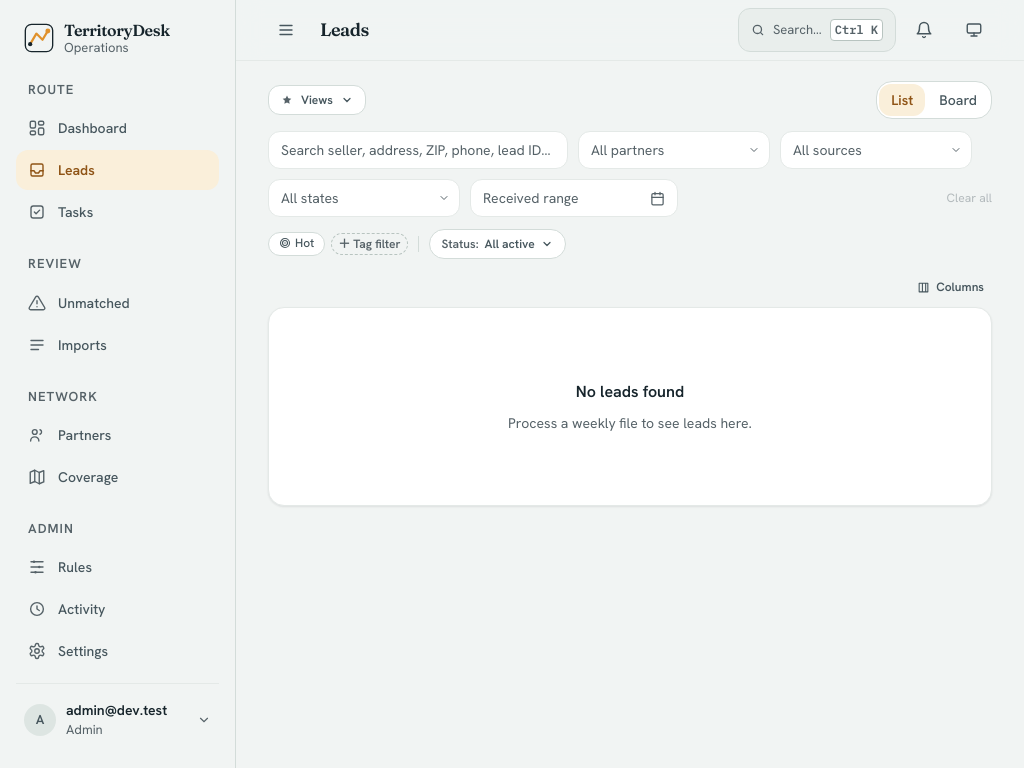
Test case: SV-04: applying a saved view replaces the leads page's filter state › SV-04: every filter in the view reaches the list request — through the filter bar
The width and height of the screenshot is (1024, 768).
Click the button with aria-label "saved views" at (317, 100), box left=268, top=85, right=366, bottom=115
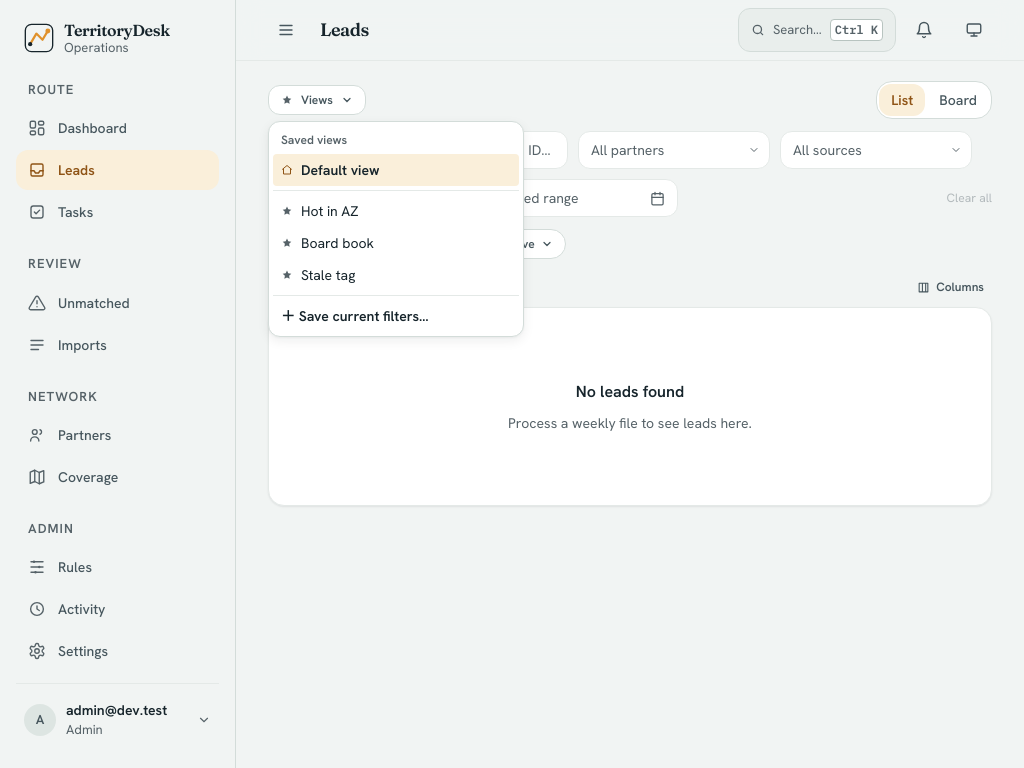
Click the menu item "Hot in AZ" at (320, 211), box left=281, top=202, right=358, bottom=220
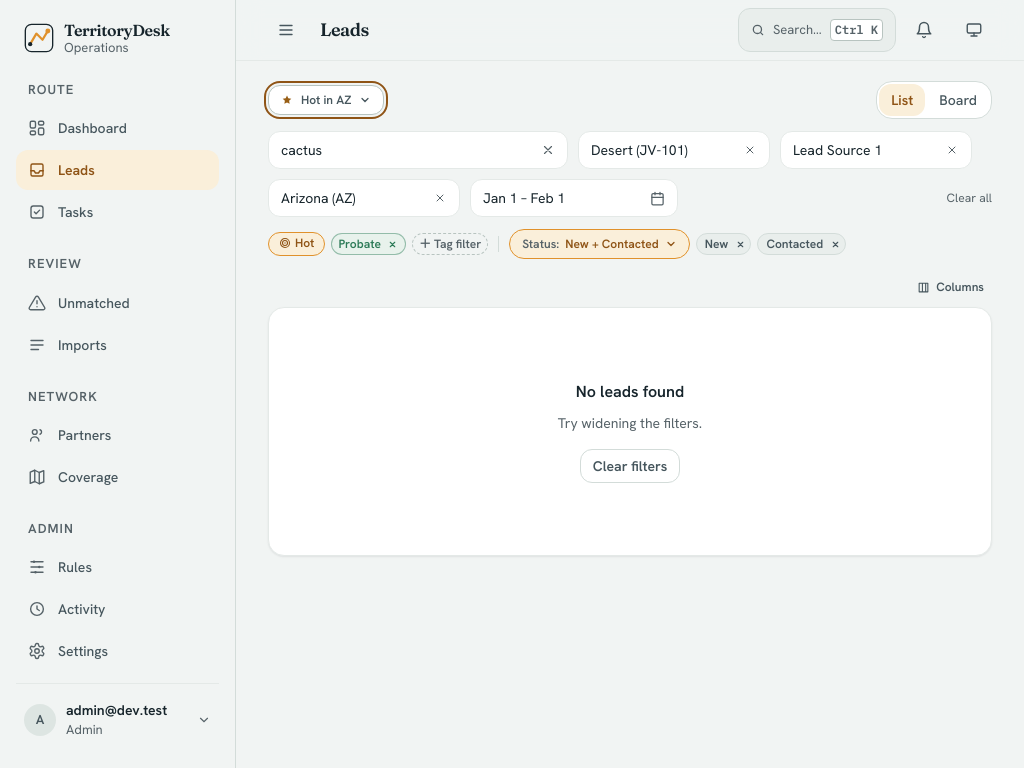
Check: the field named "search leads" holds "cactus", box left=268, top=131, right=568, bottom=169
